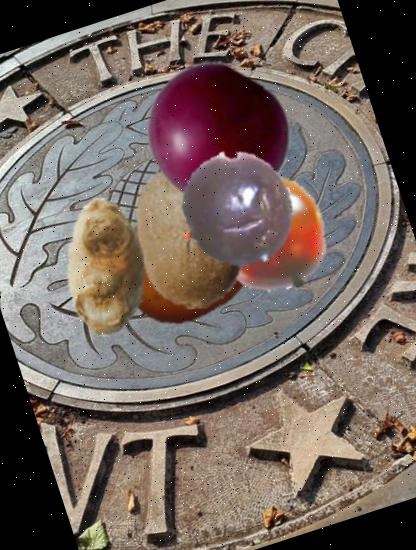Apricot: (97, 177, 270, 350)
Cherry: (127, 44, 310, 227)
Ginger: (18, 179, 193, 354)
Kiwi: (102, 141, 290, 328)
Passion: (160, 135, 310, 285)
Tomato: (195, 158, 344, 306)
